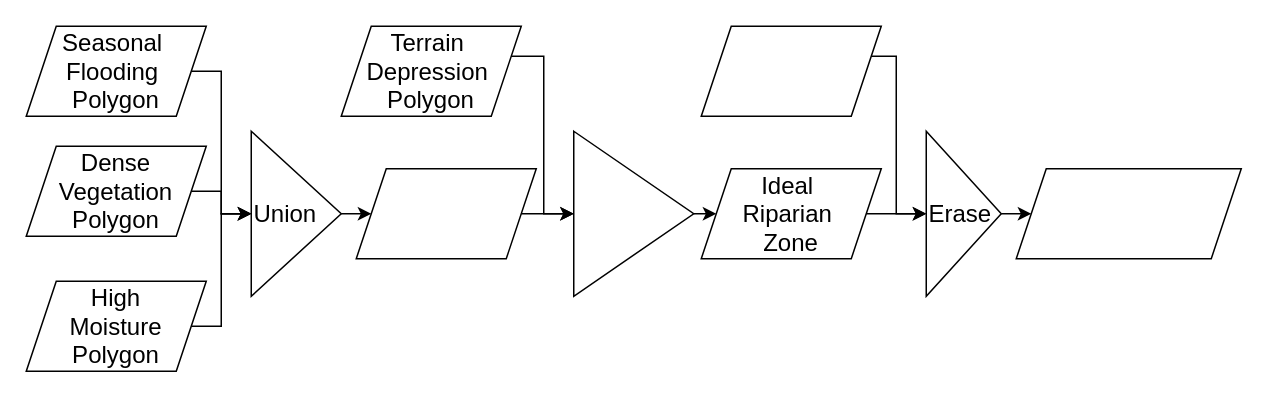
Image size: 1268x398. Some labels were removed from this diagram. Each missing label, with the box of its shape:
Developed: (700, 25, 881, 116)
Hydro + Eco: (355, 167, 536, 259)
Hydroecological Riparian Zone: (1015, 167, 1241, 259)
Intersect: (572, 130, 694, 296)
